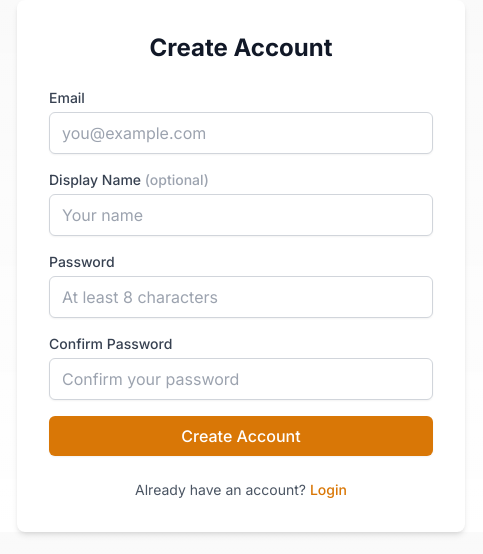
Test case: RegisterPage › Form Submission › disables submit button while submitting
Type "new@example.com" into the field labelled "Email".
click(241, 133); type("new@example.com")  # box [49, 112, 433, 154]
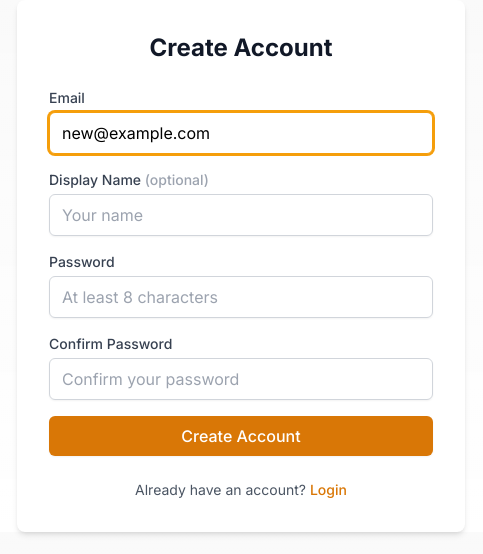
Type "password123" into the password field labelled "Password".
click(241, 297); type("password123")  # box [49, 276, 433, 318]
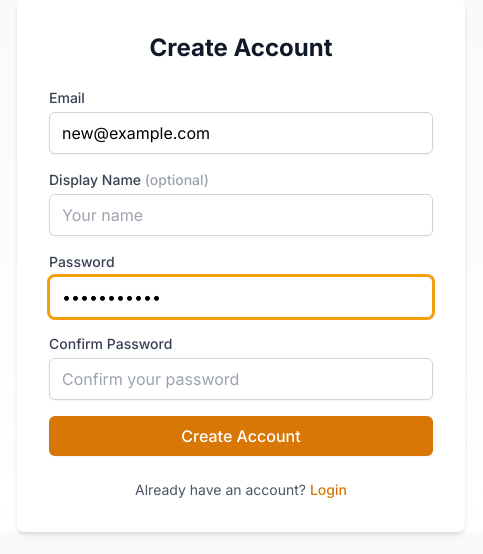
Type "password123" into the password field labelled "Confirm Password".
click(241, 379); type("password123")  # box [49, 358, 433, 400]
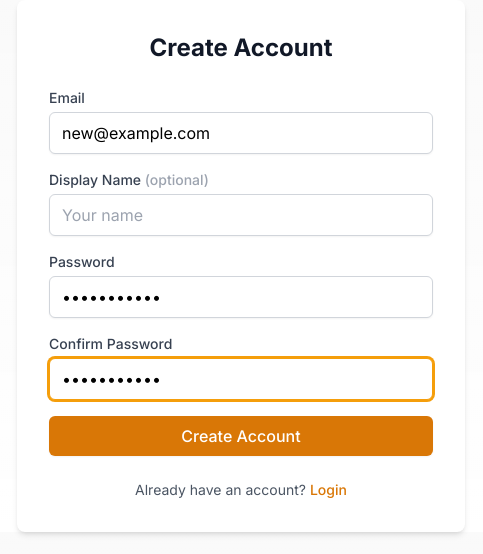
Click the button "Create Account".
click(241, 436)  # box [49, 416, 433, 456]
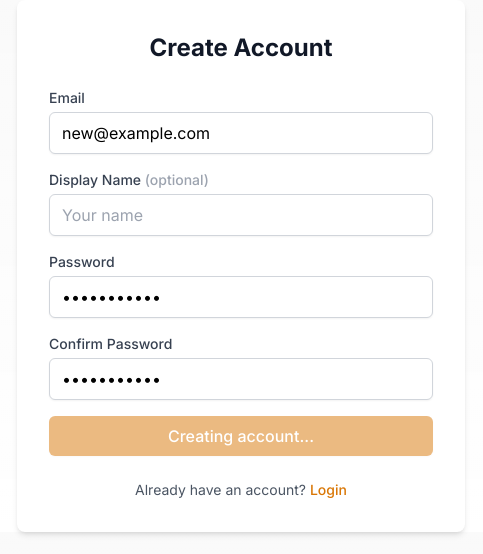
expect the button "Creating account..." is disabled: met, box [49, 416, 433, 456]
